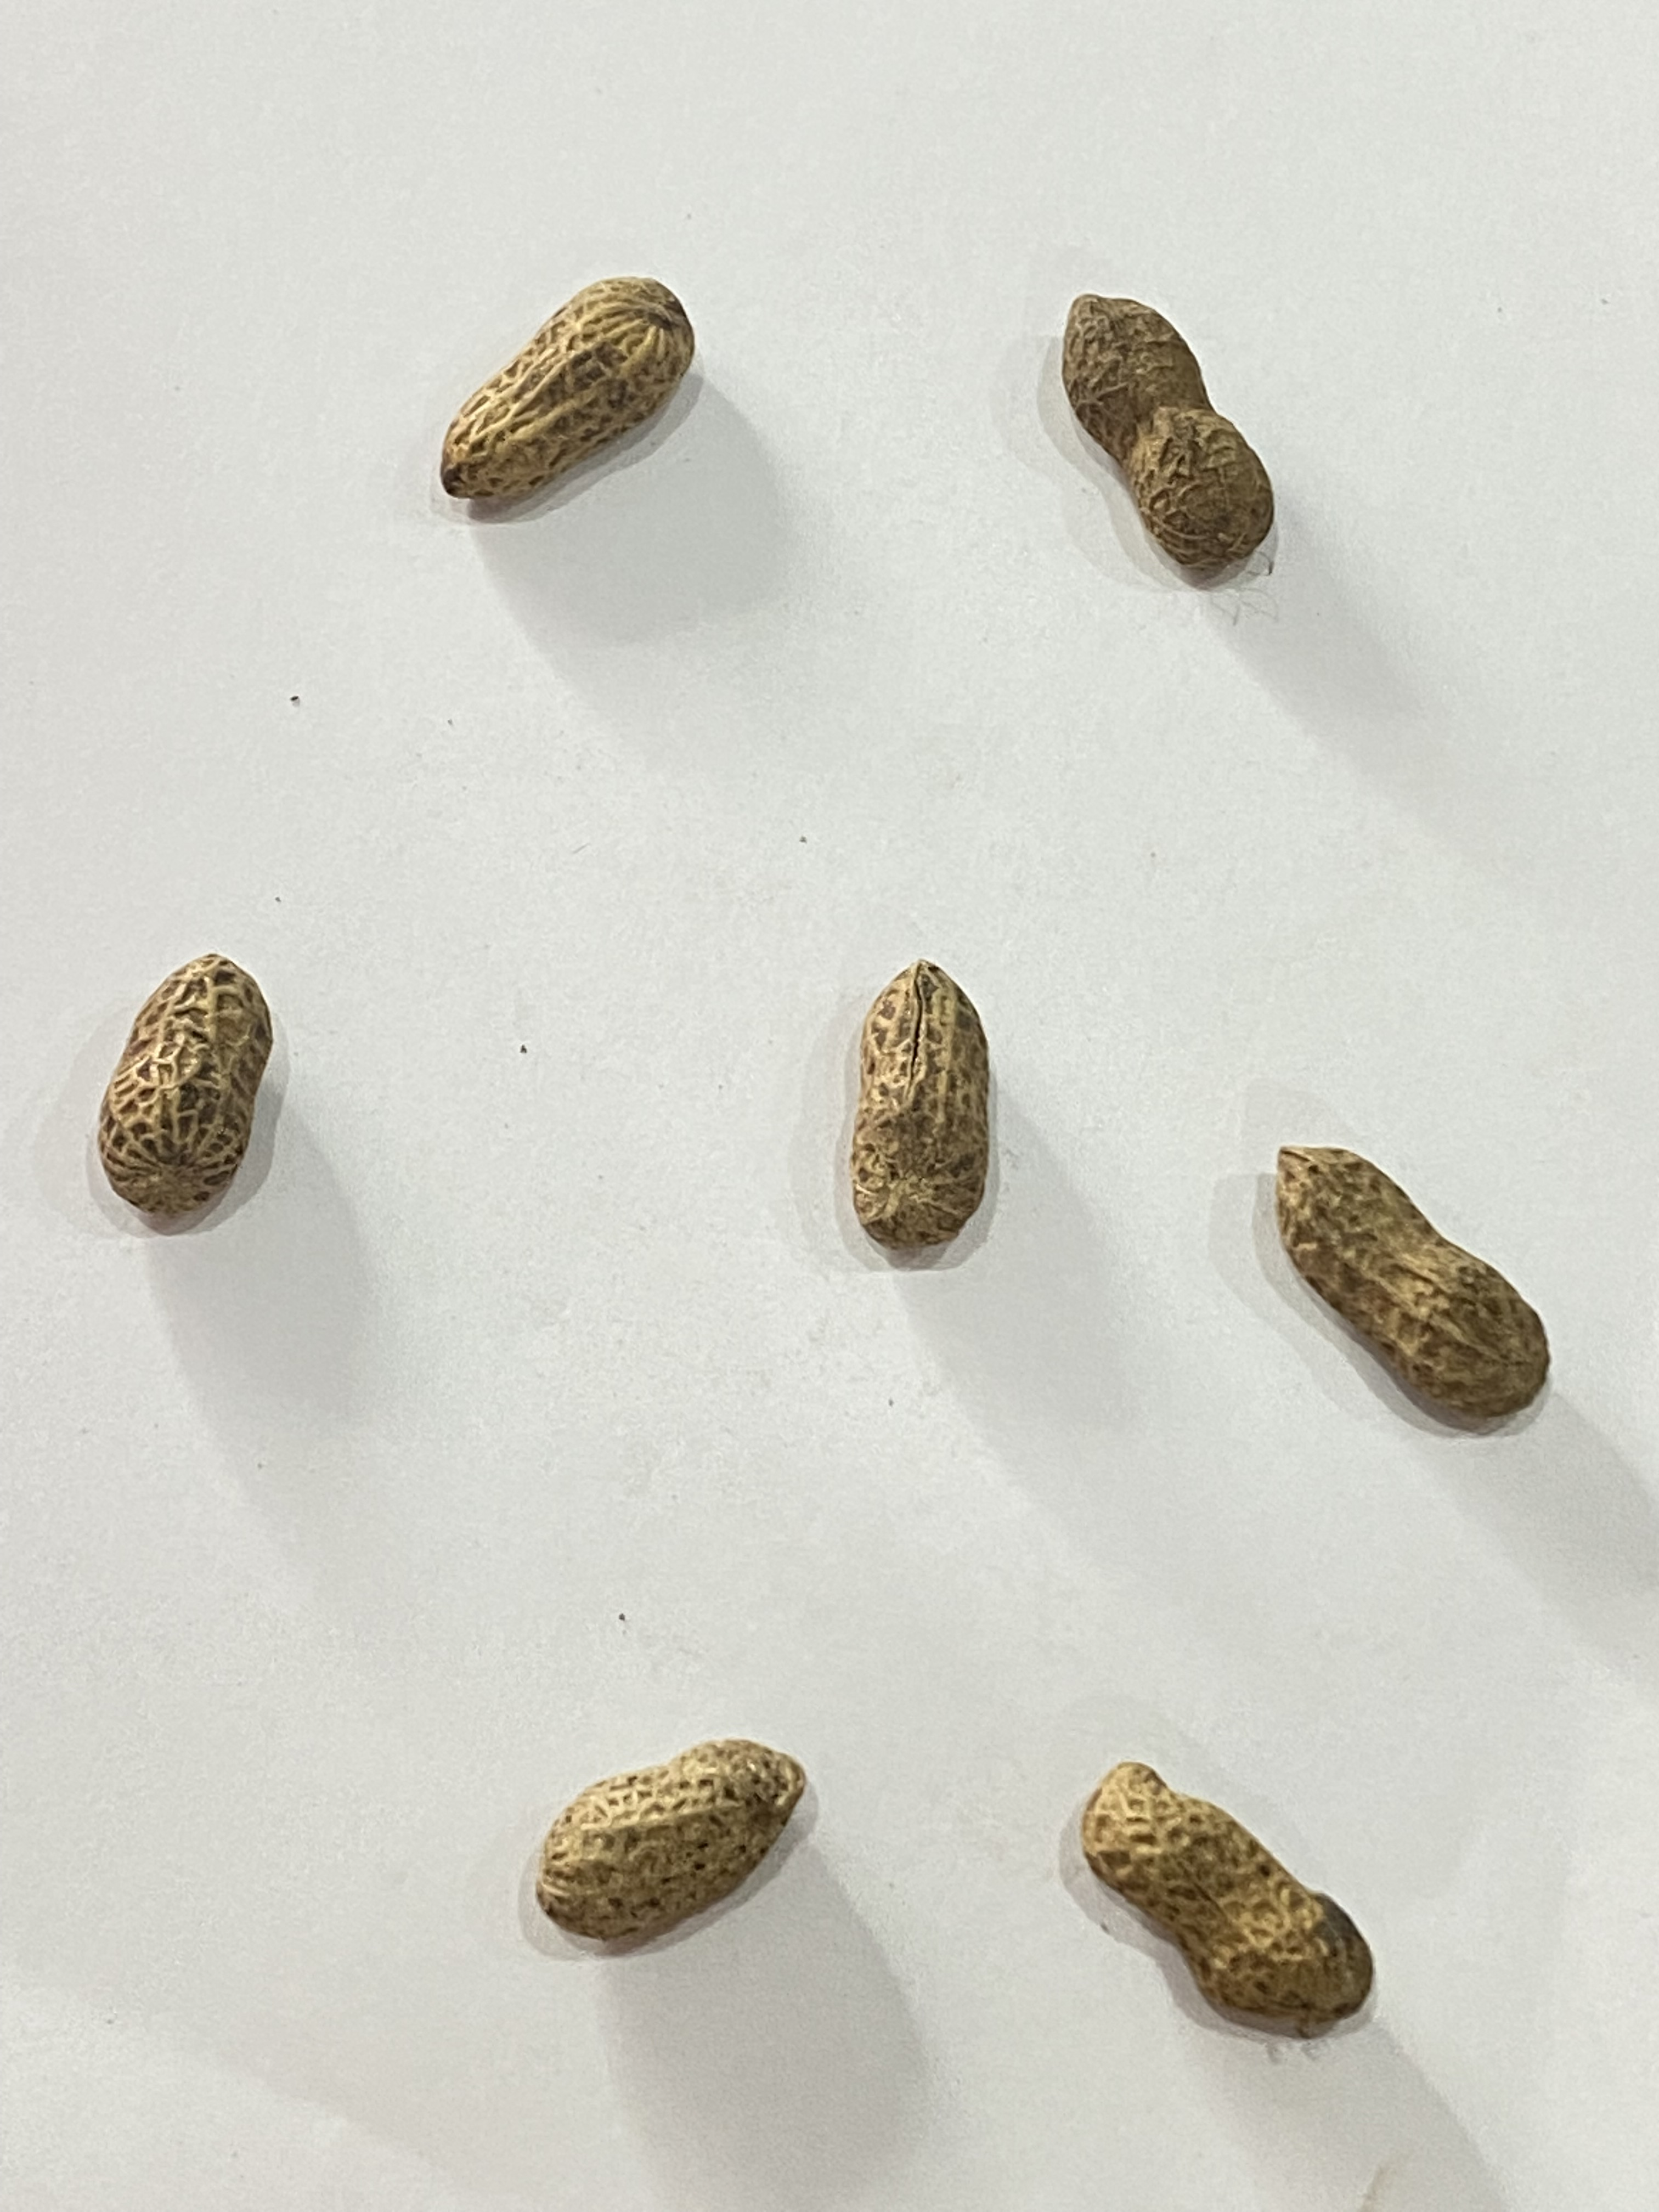kacang1: (523, 1726, 828, 1977)
kacang2: (1072, 1696, 1401, 2055), (969, 273, 1317, 585), (1243, 1120, 1554, 1451), (803, 944, 1033, 1284), (434, 260, 701, 529), (84, 894, 286, 1230)
